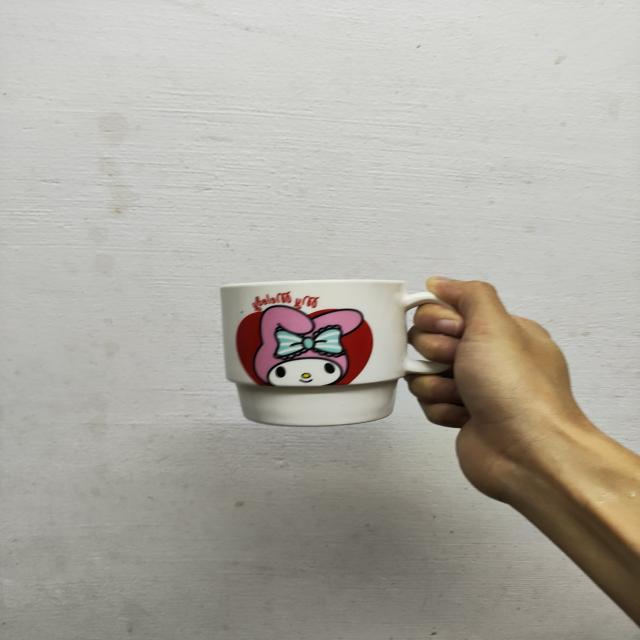cup: (205, 267, 494, 436)
